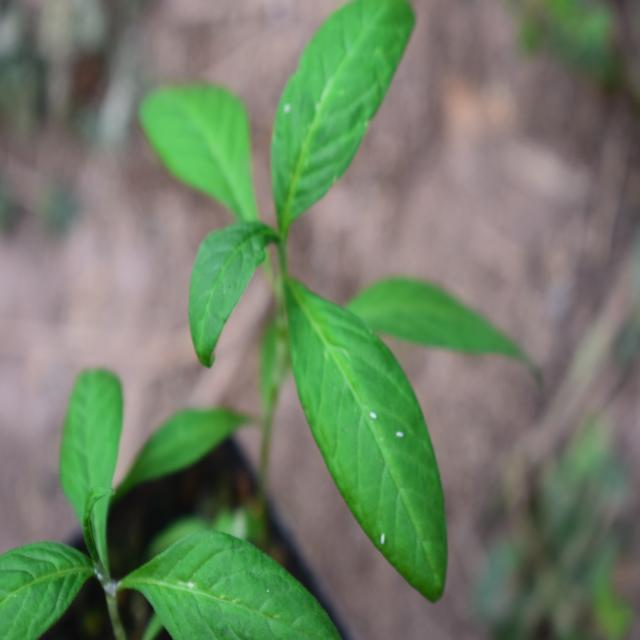white_smart_weed: (154, 20, 476, 556)
